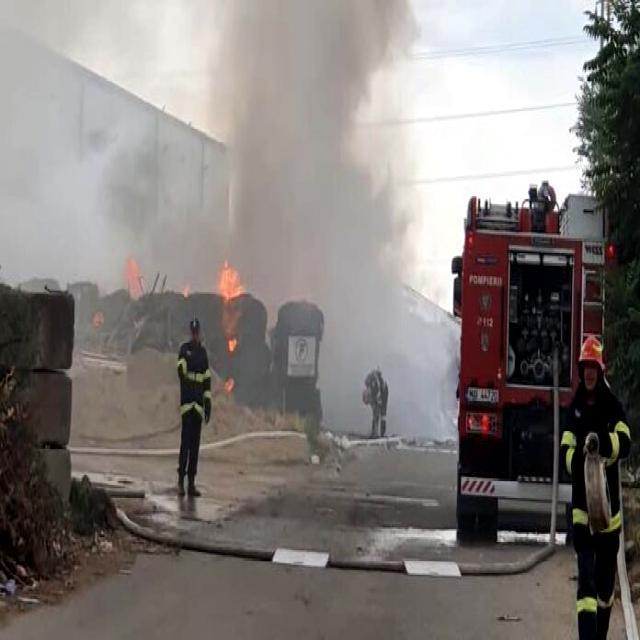Fire: (214, 262, 244, 304)
Smoke: (1, 0, 443, 391)
